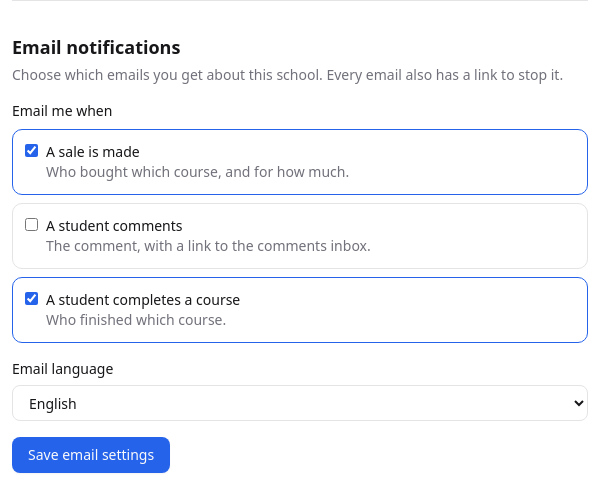
NotificationPreferencesForm › shows the saved settings and sends what the staff member changes
The image size is (608, 490).
Step 1. Click the checkbox labelled "A student comments" → click(32, 224), box x1=25 y1=218 x2=38 y2=231
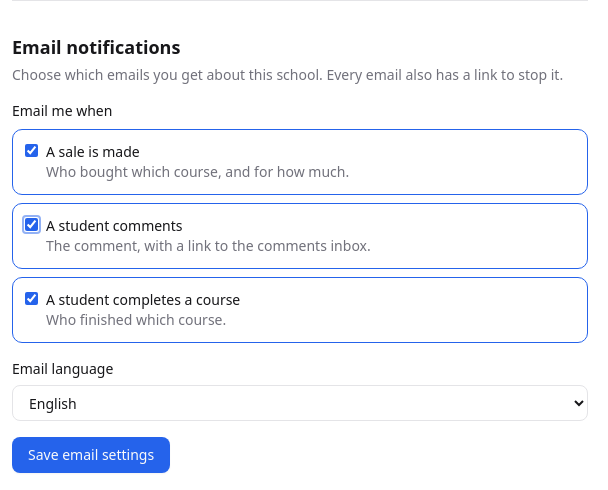
Step 2. Click the checkbox labelled "A sale is made Who bought which course, and for how much." → click(32, 150), box x1=25 y1=144 x2=38 y2=157
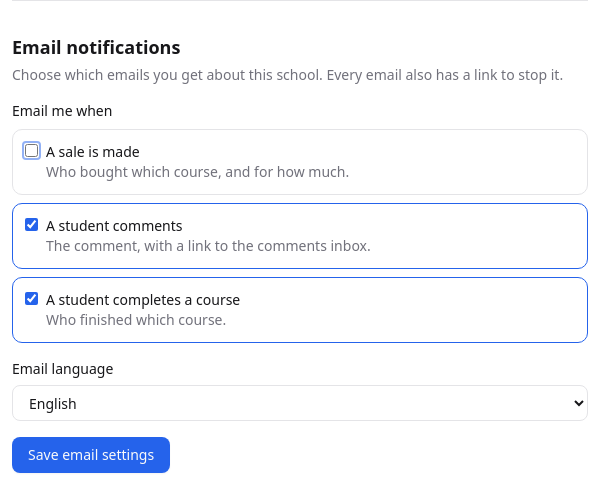
Step 3. Select "ខ្មែរ (Khmer)" in the dropdown labelled "Email language" → (300, 403), box x1=12 y1=385 x2=588 y2=421
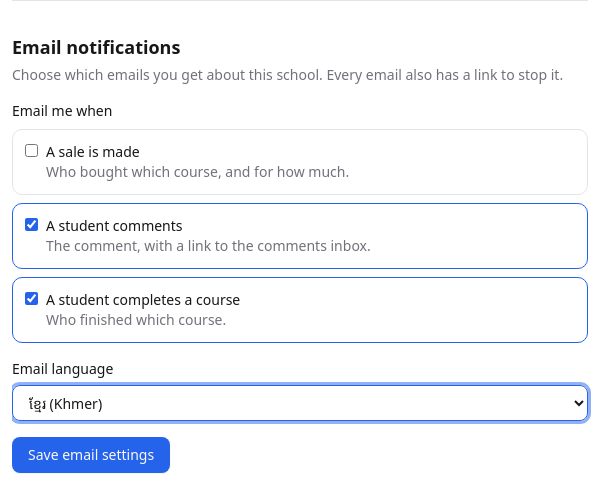
Step 4. Click the button "Save email settings" → click(91, 455), box x1=12 y1=437 x2=170 y2=473
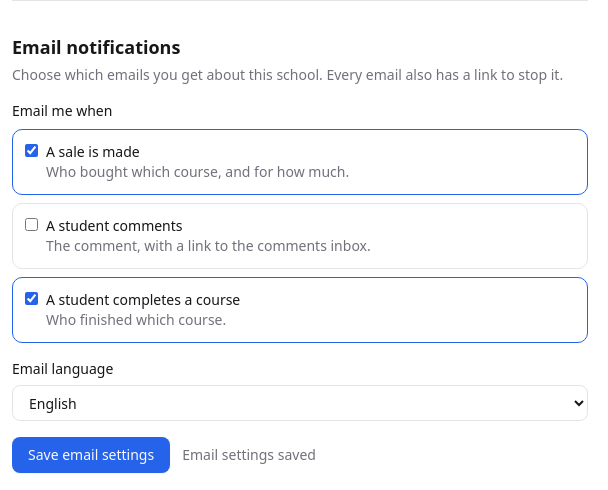
Expected: the message reads "Email settings saved", x1=182 y1=445 x2=316 y2=464
